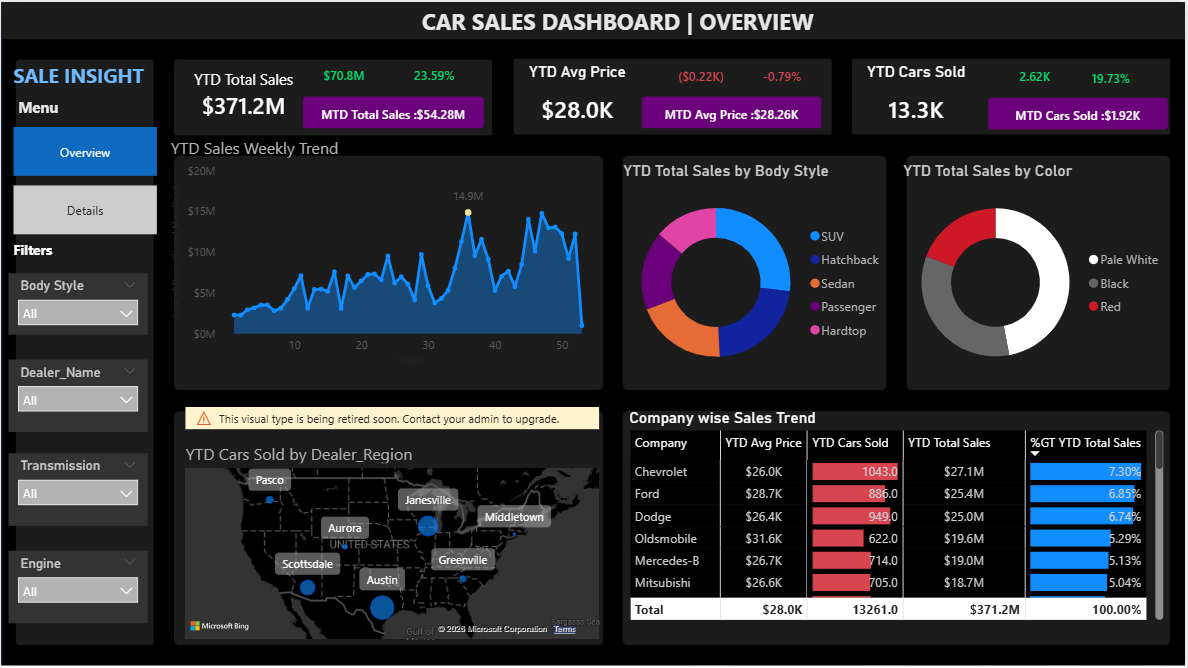

Layout of this report page (visuals, bound fields, positions):
{"tool":"powerbi","page":{"name":"Overview","canvas":[1280,720],"ordinal":0},"visuals":[{"type":"cardVisual","fields":{"Data":["car_data.YTD Total Sales"]},"box":[180,53.3,165.6,94.4],"z":0},{"type":"cardVisual","fields":{"Data":["car_data.Sales Difference"]},"box":[319.1,50,104.5,55.5],"z":1000},{"type":"cardVisual","fields":{"Data":["car_data.YoY Sales Growth"]},"box":[413.6,52.7,110.9,50.9],"z":2000},{"type":"cardVisual","fields":{"Data":["car_data.MTD KPI"]},"box":[307.9,83.7,232.1,71.6],"z":3000},{"type":"cardVisual","title":"YTD Avg Price","fields":{"Data":["car_data.YTD Avg Price"]},"box":[540,64.5,165.5,83.6],"z":4000},{"type":"cardVisual","fields":{"Data":["car_data.Avg Price Diff"]},"box":[696.4,50.9,122.7,55.5],"z":5000},{"type":"cardVisual","fields":{"Data":["car_data.YoY Avg Price Growth"]},"box":[783.6,50.9,122.7,55.5],"z":6000},{"type":"cardVisual","fields":{"Data":["car_data.MTD Avg Price KPI"]},"box":[674.5,83.6,231.8,71.8],"z":7000},{"type":"cardVisual","title":"YTD Cars Sold","fields":{"Data":["car_data.YTD Cars Sold"]},"box":[906.4,64.5,165.5,83.6],"z":8000},{"type":"cardVisual","fields":{"Data":["car_data.Cars Sold Diff"]},"box":[1056.1,51.3,122.8,56],"z":9000},{"type":"cardVisual","fields":{"Data":["car_data.YoY Cars Sold Growth"]},"box":[1139.6,52.4,122.8,56],"z":10000},{"type":"cardVisual","fields":{"Data":["car_data.MTD Cars Sold KPI"]},"box":[1048.7,85.3,231.6,71],"z":11000},{"type":"areaChart","title":"YTD Sales Weekly Trend","fields":{"Category":["Calendar Table.Week"],"Y":["Sum(car_data.Price ($))","car_data.Max Point"]},"box":[178.8,145.4,472,252.7],"z":12000},{"type":"donutChart","fields":{"Y":["car_data.YTD Total Sales"],"Category":["car_data.Body Style"]},"box":[668.1,171.3,295.2,244.1],"z":13000},{"type":"donutChart","fields":{"Y":["car_data.YTD Total Sales"],"Category":["car_data.Color"]},"box":[970.5,171.3,295.2,244.1],"z":14000},{"type":"map","fields":{"Category":["car_data.Dealer_Region"],"Size":["car_data.YTD Cars Sold"]},"box":[194.3,438.5,456.7,256.3],"z":15000},{"type":"tableEx","title":"Company wise Sales Trend ","fields":{"Values":["car_data.Company","car_data.YTD Avg Price","car_data.YTD Cars Sold","car_data.YTD Total Sales1","car_data.YTD Total Sales"]},"box":[674.7,438.7,587.7,233.6],"z":16000},{"type":"textbox","box":[450,0,448.8,51.2],"z":17000},{"type":"slicer","fields":{"Values":["car_data.Body Style"]},"box":[7.5,293.8,150,66.2],"z":18000},{"type":"slicer","fields":{"Values":["car_data.Dealer_Name"]},"box":[7.5,386.2,150,78.8],"z":19000},{"type":"slicer","fields":{"Values":["car_data.Transmission"]},"box":[7.5,487.5,150,78.8],"z":20000},{"type":"slicer","fields":{"Values":["car_data.Engine"]},"box":[7.5,593.8,150,78.8],"z":21000},{"type":"textbox","box":[7.5,252.5,56.2,38.8],"z":22000},{"type":"textbox","box":[8.8,60,160,50],"z":23000},{"type":"textbox","box":[13.8,97.5,68.8,36.2],"z":24000},{"type":"pageNavigator","box":[13.8,135,155,117.5],"z":25000}]}

Visuals, with their boxes in screenshot pixels (x1, y1, x2, y2), scaled from the page's 1280x720 canvas onto the 1188x668 screenshot:
cardVisual - car_data.YTD Total Sales: bbox=[167, 49, 321, 137]
cardVisual - car_data.Sales Difference: bbox=[296, 46, 393, 98]
cardVisual - car_data.YoY Sales Growth: bbox=[384, 49, 487, 96]
cardVisual - car_data.MTD KPI: bbox=[286, 78, 501, 144]
"YTD Avg Price" cardVisual: bbox=[501, 60, 655, 137]
cardVisual - car_data.Avg Price Diff: bbox=[646, 47, 760, 99]
cardVisual - car_data.YoY Avg Price Growth: bbox=[727, 47, 841, 99]
cardVisual - car_data.MTD Avg Price KPI: bbox=[626, 78, 841, 144]
"YTD Cars Sold" cardVisual: bbox=[841, 60, 995, 137]
cardVisual - car_data.Cars Sold Diff: bbox=[980, 48, 1094, 100]
cardVisual - car_data.YoY Cars Sold Growth: bbox=[1058, 49, 1172, 101]
cardVisual - car_data.MTD Cars Sold KPI: bbox=[973, 79, 1187, 145]
"YTD Sales Weekly Trend" areaChart: bbox=[166, 135, 604, 369]
donutChart - car_data.YTD Total Sales x car_data.Body Style: bbox=[620, 159, 894, 385]
donutChart - car_data.YTD Total Sales x car_data.Color: bbox=[901, 159, 1175, 385]
map - car_data.Dealer_Region x car_data.YTD Cars Sold: bbox=[180, 407, 604, 645]
"Company wise Sales Trend " tableEx: bbox=[626, 407, 1172, 624]
textbox: bbox=[418, 0, 834, 48]
slicer - car_data.Body Style: bbox=[7, 273, 146, 334]
slicer - car_data.Dealer_Name: bbox=[7, 358, 146, 431]
slicer - car_data.Transmission: bbox=[7, 452, 146, 525]
slicer - car_data.Engine: bbox=[7, 551, 146, 624]
textbox: bbox=[7, 234, 59, 270]
textbox: bbox=[8, 56, 157, 102]
textbox: bbox=[13, 90, 77, 124]
pageNavigator: bbox=[13, 125, 157, 234]
